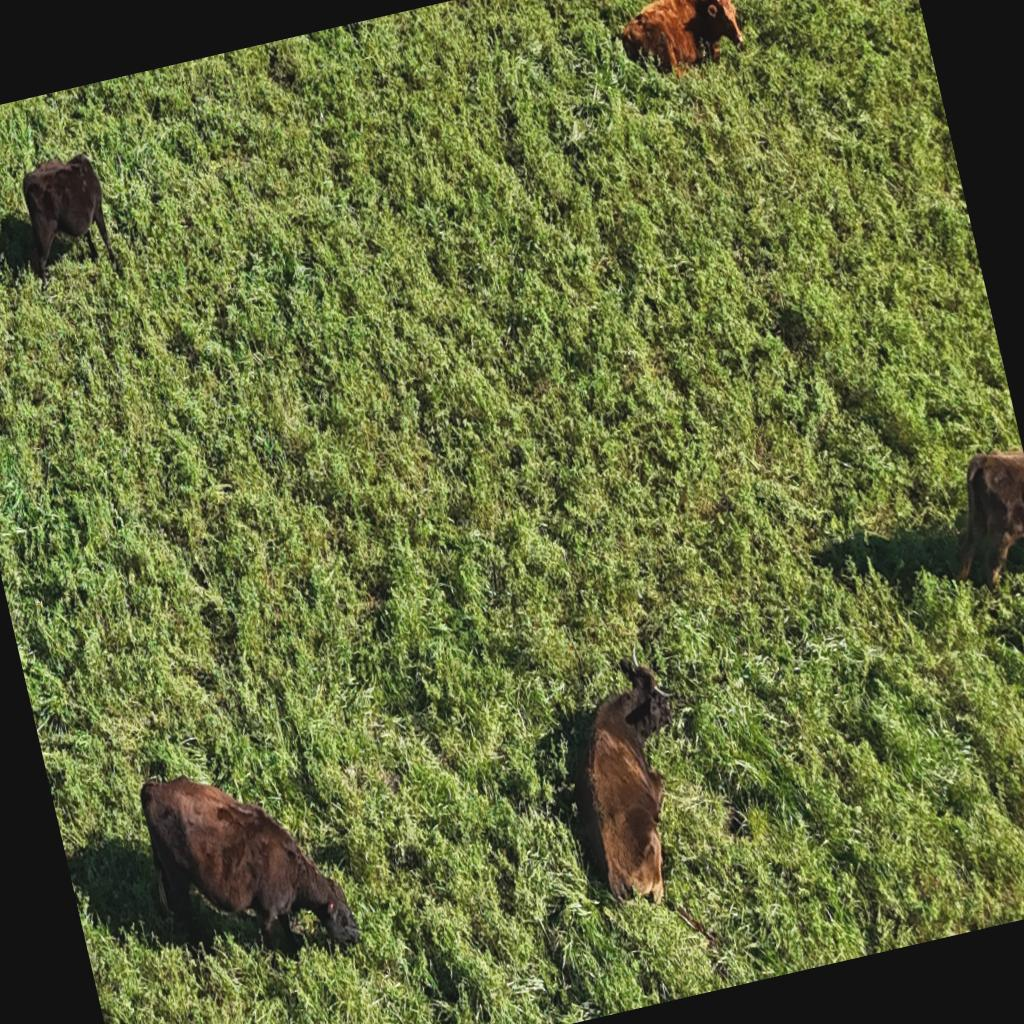cow: (121, 726, 389, 1020), (542, 656, 718, 926), (928, 434, 1024, 638), (10, 145, 126, 295), (604, 0, 747, 93)
